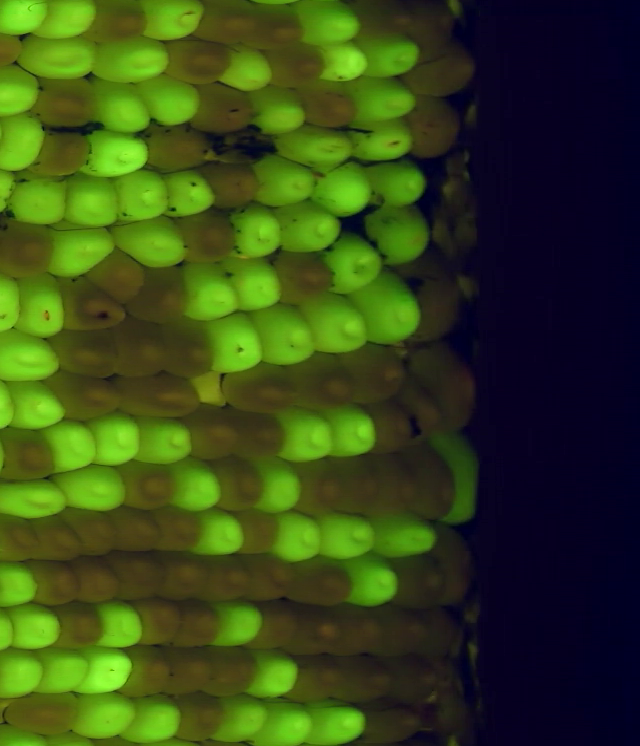fluorescent: (350, 271, 425, 346), (427, 434, 480, 527), (250, 304, 319, 366), (368, 201, 431, 267), (275, 195, 347, 251), (112, 216, 188, 268), (302, 296, 370, 354), (20, 33, 100, 82), (206, 313, 269, 374), (323, 234, 385, 295), (276, 124, 360, 169), (81, 410, 145, 468), (46, 467, 129, 511), (163, 458, 228, 514), (76, 131, 157, 175), (131, 412, 197, 465), (138, 75, 205, 127), (48, 224, 115, 276), (14, 275, 70, 337), (179, 260, 241, 316), (221, 256, 285, 310), (275, 407, 341, 458), (43, 415, 103, 471), (60, 171, 122, 225), (5, 376, 70, 427), (112, 168, 171, 224), (74, 693, 142, 740), (0, 323, 59, 377), (343, 556, 403, 608), (231, 202, 283, 261), (213, 46, 284, 89), (253, 458, 307, 514), (194, 505, 250, 559), (92, 79, 150, 131), (98, 38, 168, 81), (353, 115, 417, 162), (314, 509, 374, 559), (299, 1, 364, 47), (8, 175, 71, 222), (0, 476, 70, 518), (351, 77, 419, 120), (7, 602, 65, 652), (92, 598, 148, 649), (369, 514, 440, 554), (307, 701, 370, 745), (251, 650, 301, 704), (364, 159, 428, 201), (333, 400, 380, 456), (218, 693, 274, 740), (83, 647, 133, 699), (213, 601, 267, 649), (362, 35, 425, 76), (124, 695, 184, 738), (141, 1, 205, 41), (272, 508, 320, 561), (163, 169, 218, 215), (257, 85, 309, 133), (32, 1, 100, 37), (318, 38, 373, 82), (0, 110, 37, 175), (43, 649, 92, 697), (0, 650, 45, 701), (0, 65, 43, 117), (262, 703, 312, 742), (0, 558, 41, 605), (0, 1, 55, 36)
nonfluorescent: (395, 260, 462, 344), (414, 345, 474, 434), (113, 370, 201, 417), (43, 370, 125, 420), (137, 124, 220, 173), (47, 326, 123, 378), (58, 274, 127, 330), (404, 96, 463, 159), (347, 347, 409, 406), (288, 356, 355, 410), (0, 218, 56, 282), (272, 249, 335, 305), (191, 81, 255, 133), (34, 75, 98, 127), (160, 321, 217, 379), (222, 367, 296, 411), (287, 555, 352, 605), (79, 1, 149, 47), (409, 49, 477, 95), (407, 1, 459, 61), (1, 695, 80, 734), (113, 322, 168, 378), (173, 214, 237, 262), (200, 160, 263, 208), (184, 404, 241, 457), (389, 554, 446, 606), (332, 456, 380, 517), (212, 459, 266, 513), (193, 1, 259, 45), (39, 128, 93, 181), (165, 40, 231, 83), (119, 462, 176, 511), (173, 595, 222, 652), (373, 454, 419, 514), (336, 604, 382, 664), (130, 596, 184, 647), (0, 428, 55, 478), (23, 558, 80, 606), (267, 41, 326, 87), (248, 5, 306, 51), (160, 552, 212, 603), (171, 691, 223, 742), (136, 267, 185, 321), (61, 508, 115, 557), (298, 460, 343, 518), (359, 704, 421, 746), (339, 657, 393, 705), (444, 525, 478, 601), (419, 447, 457, 514), (114, 552, 167, 600), (232, 409, 286, 456), (51, 602, 105, 649), (89, 256, 148, 299), (373, 606, 426, 653), (385, 654, 438, 701), (301, 85, 357, 129), (122, 647, 173, 695), (208, 645, 255, 697), (108, 506, 163, 550), (245, 553, 293, 603), (33, 514, 82, 562), (164, 648, 212, 697), (237, 508, 284, 557), (75, 556, 124, 603), (154, 506, 201, 554), (0, 511, 44, 562), (293, 610, 340, 657), (397, 383, 441, 433), (295, 657, 343, 701), (353, 1, 413, 36), (206, 556, 252, 599), (364, 407, 411, 449), (254, 603, 293, 652), (420, 605, 458, 654), (430, 689, 472, 731)
